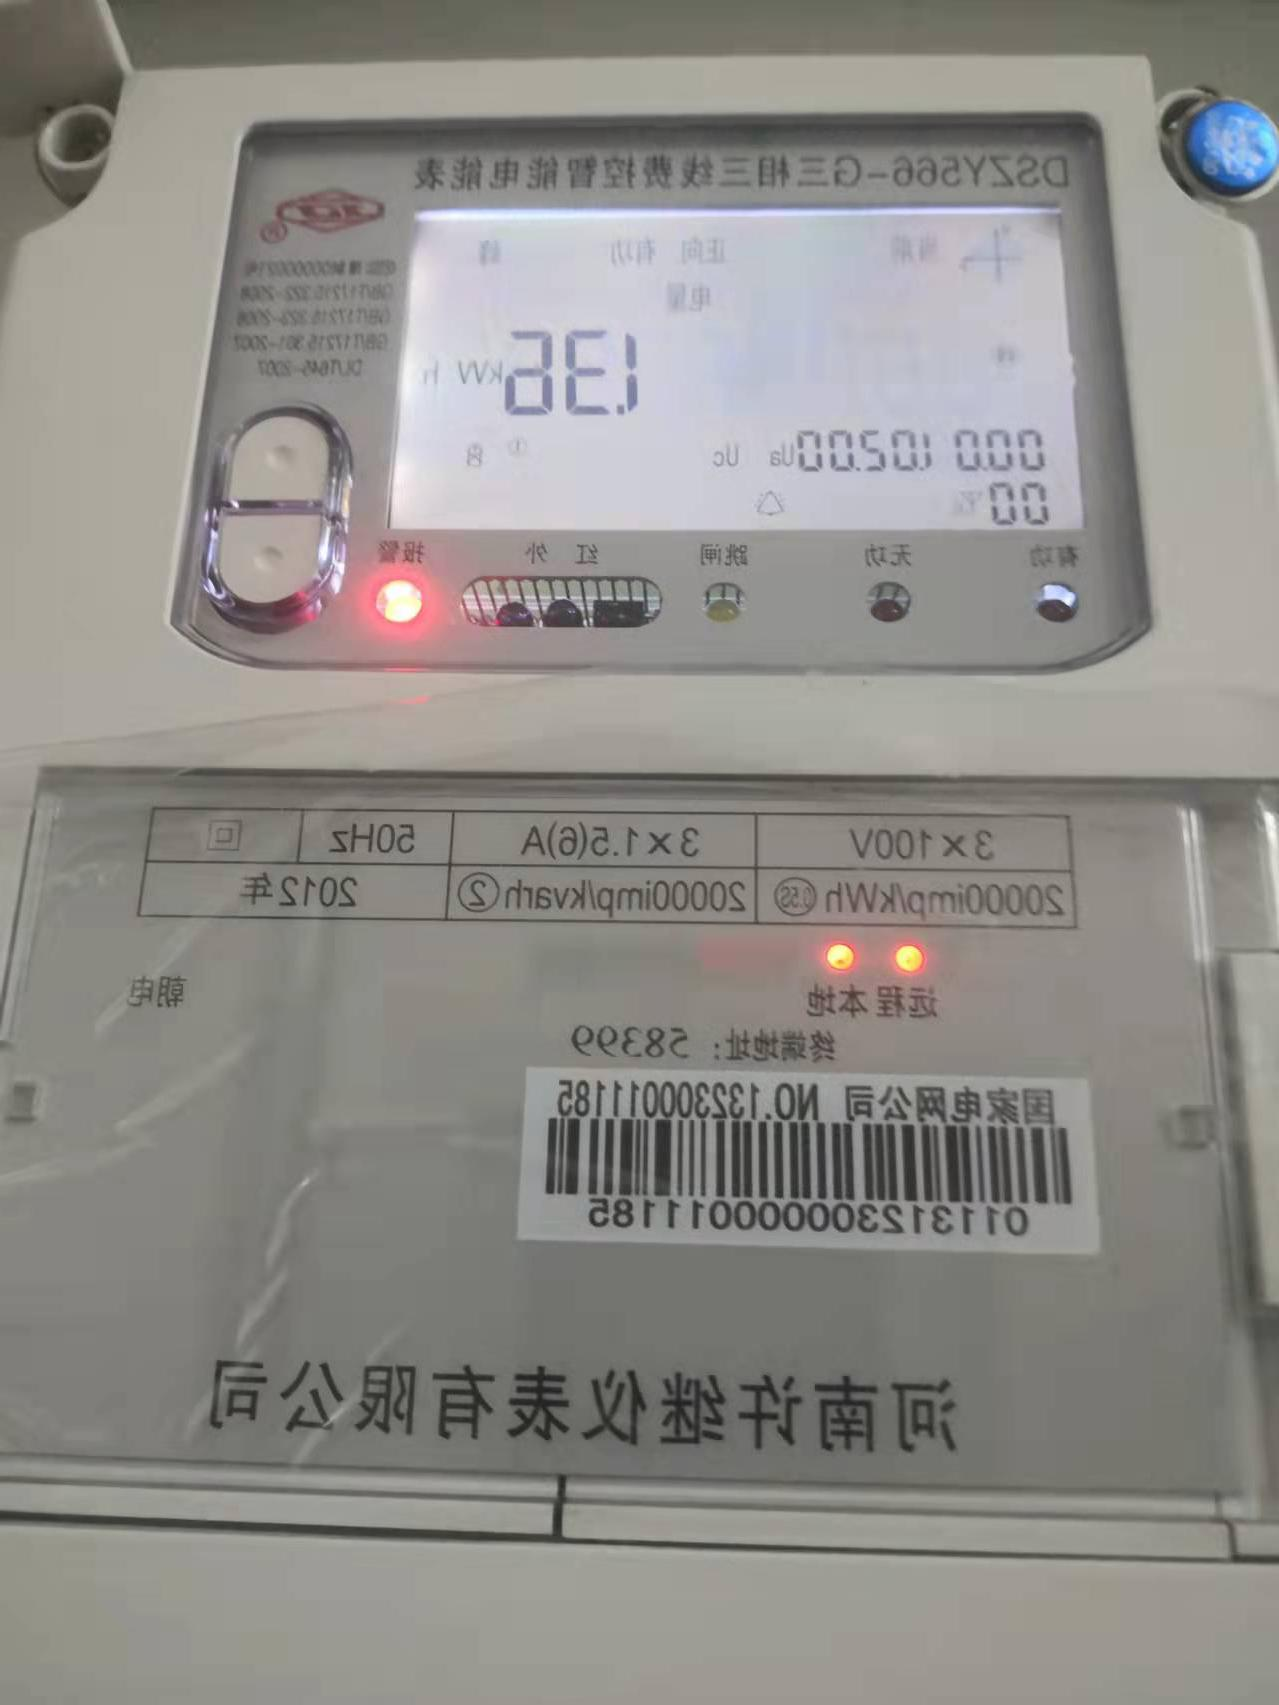digital: (3, 59, 1279, 1546)
